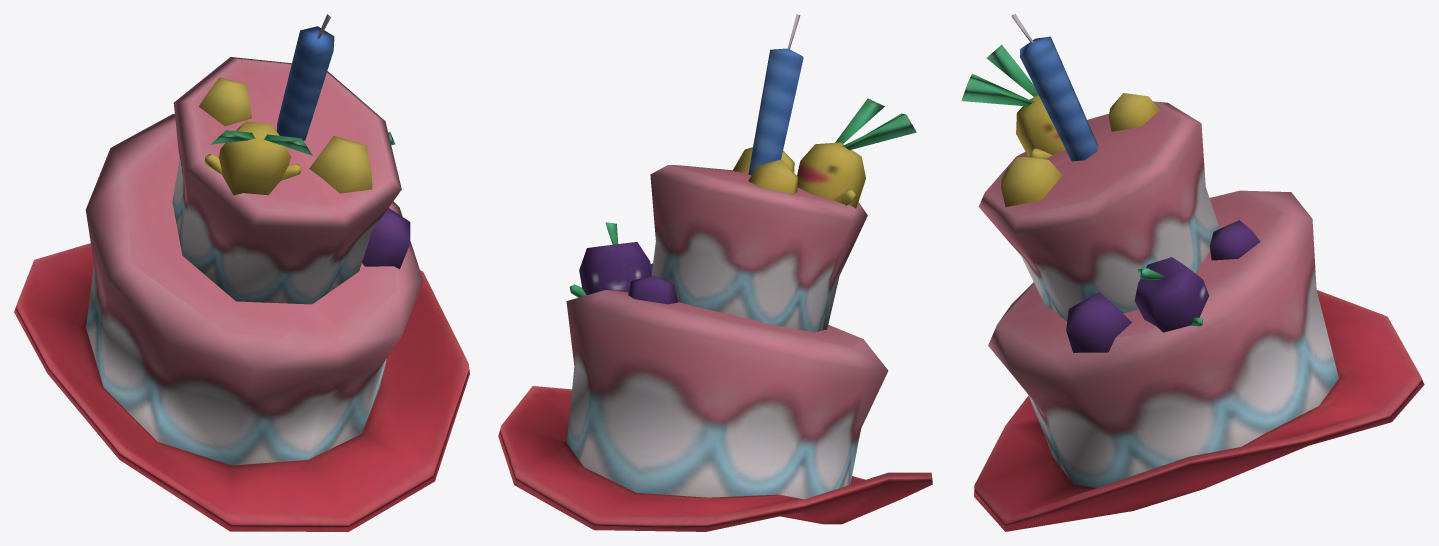
The model's file is cakeHat.glb.
3 renders of one model, left to right at view 1: azimuth 30°, elevation 25°; view 2: azimuth 150°, elevation 25°; view 3: azimuth 270°, elevation 25°, orthographic. The views are drawn at different scales.
Parts seen in each view (by area): view 1: cakeHat; view 2: cakeHat; view 3: cakeHat.
Part boxes in pixels (x1,y1,x2,y2): cakeHat: (14,14,469,531); cakeHat: (498,14,932,531); cakeHat: (961,14,1424,531).
Bounding box in the file's own units: 0.4158 × 0.5295 × 0.4603.
1 material, 1 textured.
